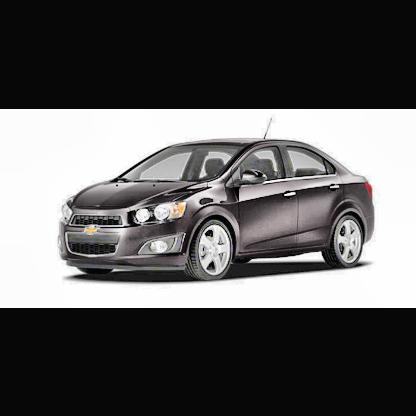Chevrolet Sonic Sedan 2012: (59, 118, 375, 283)
